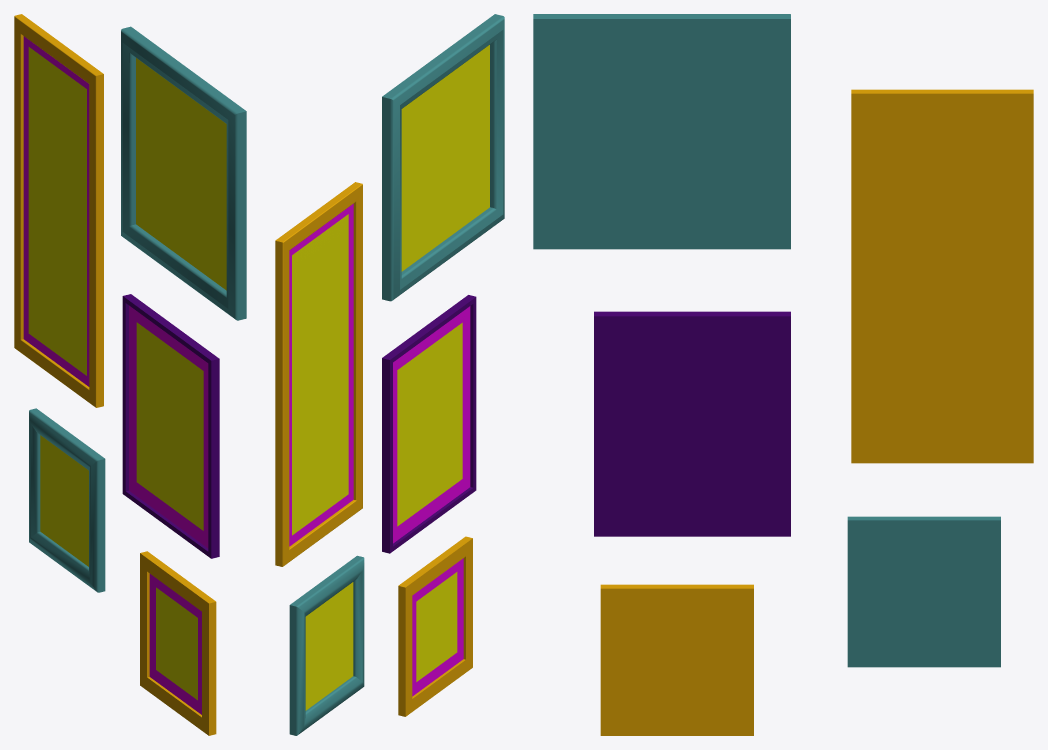
3 renders of one model, left to right at view 1: azimuth 30°, elevation 25°; view 2: azimuth 150°, elevation 25°; view 3: azimuth 270°, elevation 25°, orthographic. The views are drawn at different scales.
Visible parts, largest first — view 1: pCube162; view 2: pCube162; view 3: pCube162.
Part boxes in pixels (x1=…): pCube162: x1=14, y1=14, x2=246, y2=735; pCube162: x1=275, y1=14, x2=504, y2=735; pCube162: x1=533, y1=14, x2=1033, y2=735.
Bounding box in the file's own units: 4.95 × 228 × 144.
